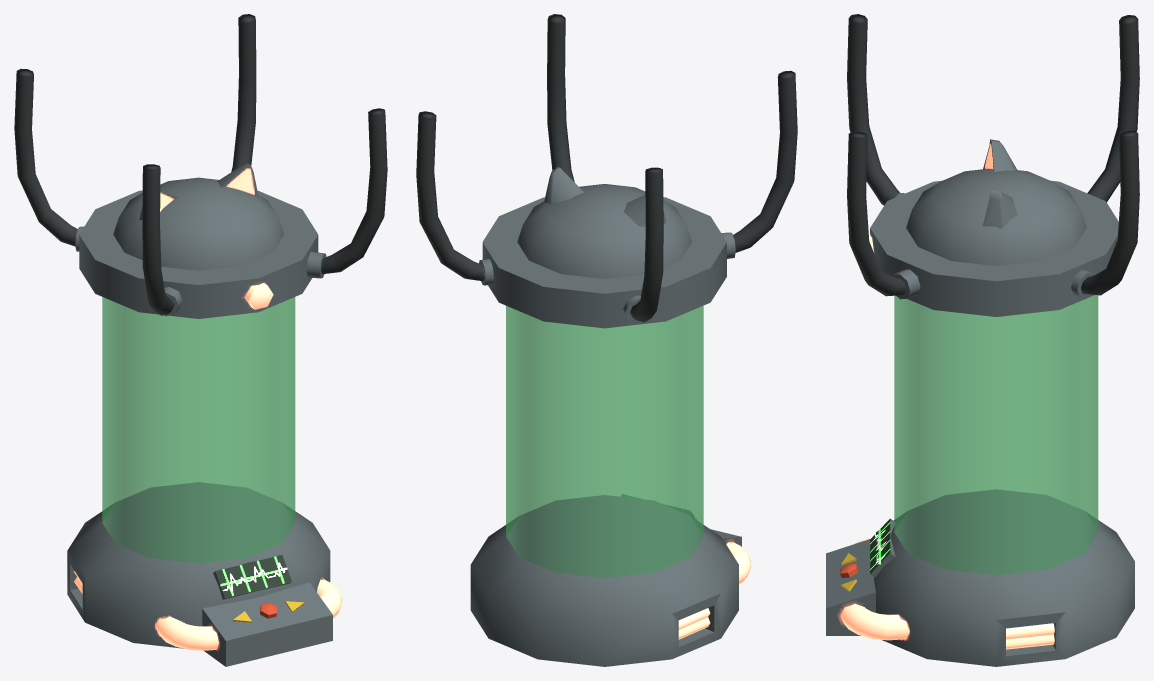
3 renders of one model, left to right at view 1: azimuth 30°, elevation 25°; view 2: azimuth 150°, elevation 25°; view 3: azimuth 270°, elevation 25°, orthographic. The views are drawn at different scales.
Parts seen in each view (by area): view 1: body, glass, cordages, pipes, screen, ears; view 2: body, glass, cordages, ears, pipes; view 3: body, glass, cordages, pipes, ears, screen.
Part boxes in pixels (x1,y1,x2,y2): body: [67, 177, 332, 666]; glass: [102, 297, 295, 563]; cordages: [14, 14, 387, 316]; pipes: [74, 282, 342, 650]; screen: [213, 554, 291, 599]; ears: [139, 163, 258, 220]; body: [470, 184, 741, 666]; glass: [506, 305, 703, 578]; cordages: [416, 14, 797, 322]; ears: [544, 166, 666, 226]; pipes: [678, 542, 751, 639]; body: [826, 169, 1134, 666]; glass: [894, 295, 1098, 575]; cordages: [847, 14, 1139, 299]; pipes: [840, 231, 1054, 649]; ears: [982, 139, 1017, 229]; screen: [870, 518, 895, 577].
Size of the model in its own units: 298 by 590 by 315.
2 materials, 1 textured.
